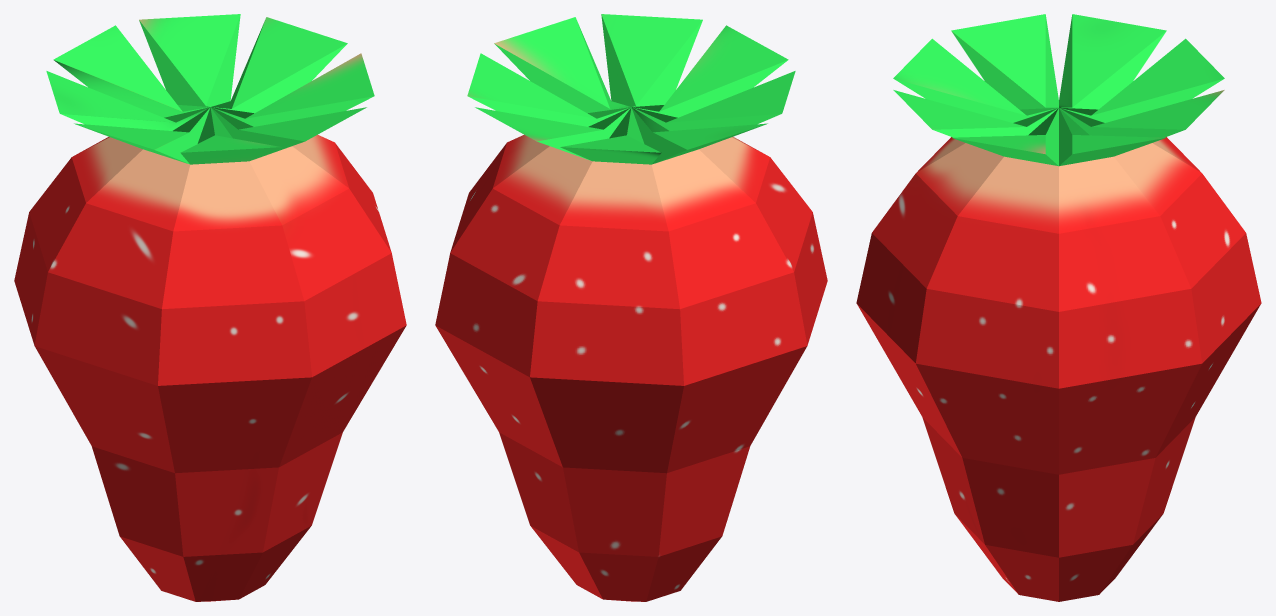
The model's file is strawberry.fbx.
3 views of the same model, side by side, from view 1: azimuth 30°, elevation 25°; view 2: azimuth 150°, elevation 25°; view 3: azimuth 270°, elevation 25° (orthographic).
Parts seen in each view (by area): view 1: Sphere; view 2: Sphere; view 3: Sphere.
Part boxes in pixels (left/top/right/bottom): Sphere: left=14, top=14, right=406, bottom=601; Sphere: left=435, top=14, right=827, bottom=601; Sphere: left=856, top=14, right=1261, bottom=601.
Size of the model in its own units: 2 by 2.81 by 2.
1 material, 1 textured.
